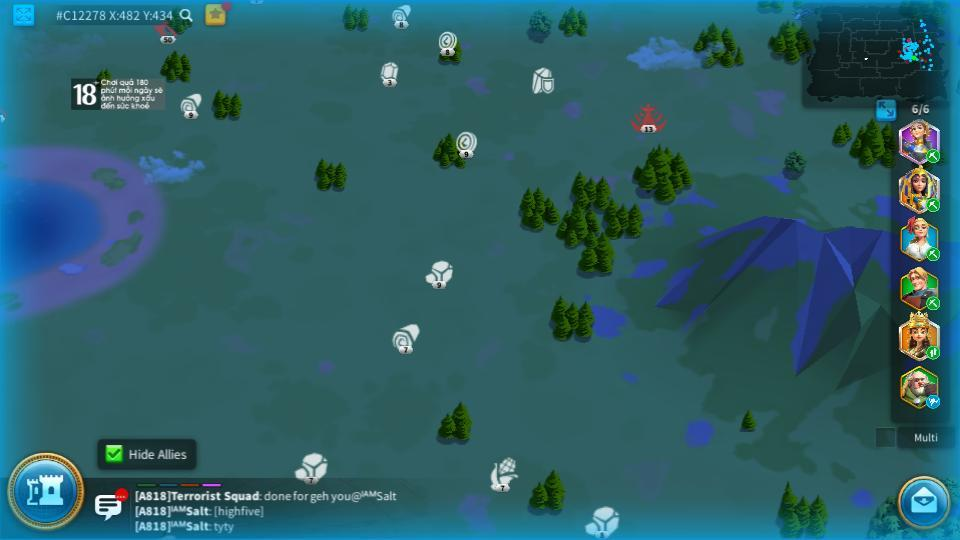gem-z-out: (378, 62, 400, 86)
march_farming: (924, 197, 939, 212)
march_idle: (925, 396, 942, 408)
march_marching: (925, 345, 941, 359), (925, 150, 942, 162), (925, 297, 941, 308)
